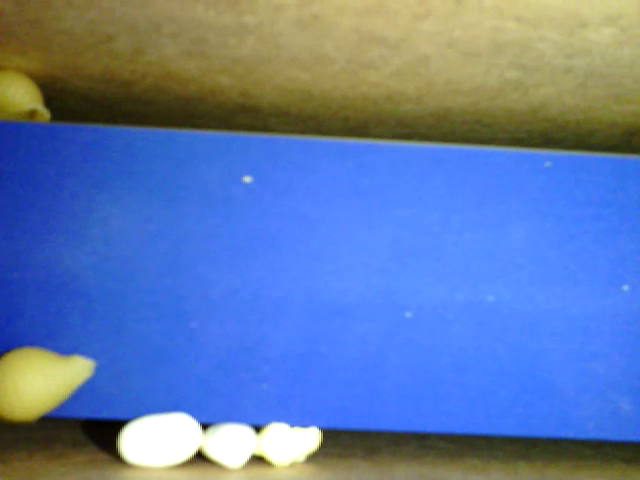shell: (1, 344, 101, 420), (1, 71, 55, 125)
